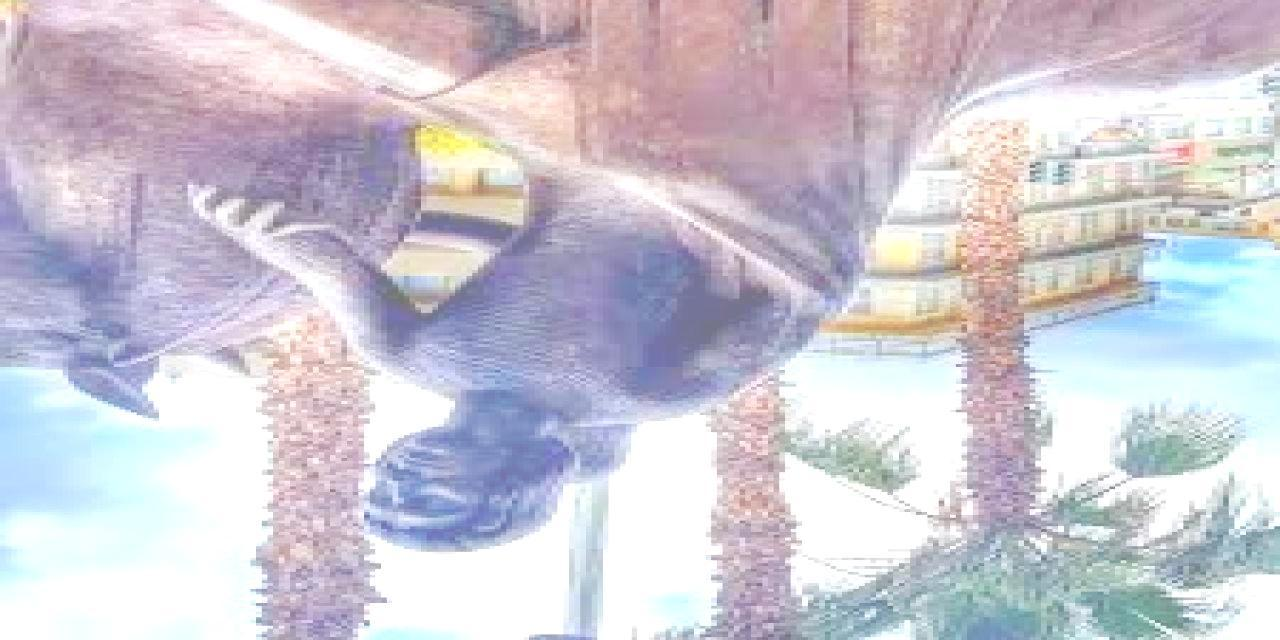Aretousa: (1, 1, 1280, 557)
